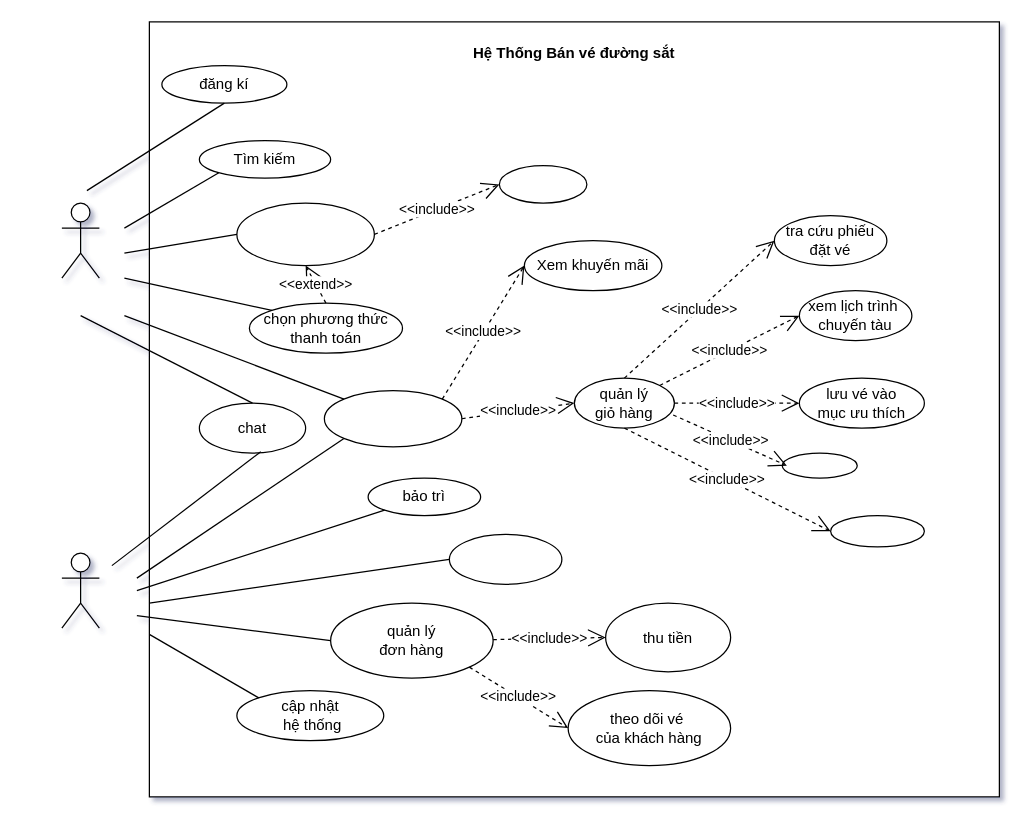
The diagram is 1029 pixels wide and 826 high, and some of its shapes have lost their labels. The box of each missing label's shape, as (x1, y1, x2, y2) in pixels:
hủy vé: (781, 452, 857, 478)
Kỹ thuật viên của hệ thống bán vé đường sắt: (61, 552, 99, 628)
mua vé: (829, 514, 924, 547)
Người dùng: (61, 202, 99, 278)
quản lí đơn hàng cá nhân: (236, 202, 374, 266)
sửa chữa: (448, 533, 562, 584)
thanh toán: (498, 164, 587, 203)
Đăng nhập: (323, 389, 462, 447)
